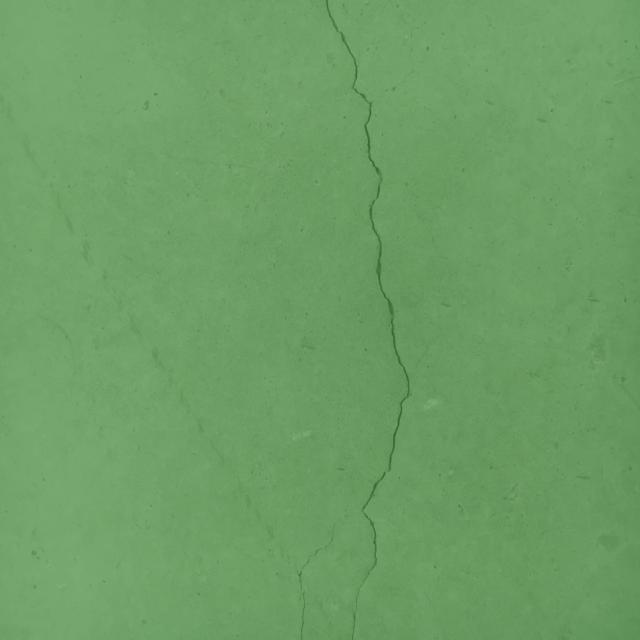crack: (325, 0, 415, 640), (297, 523, 335, 640)
